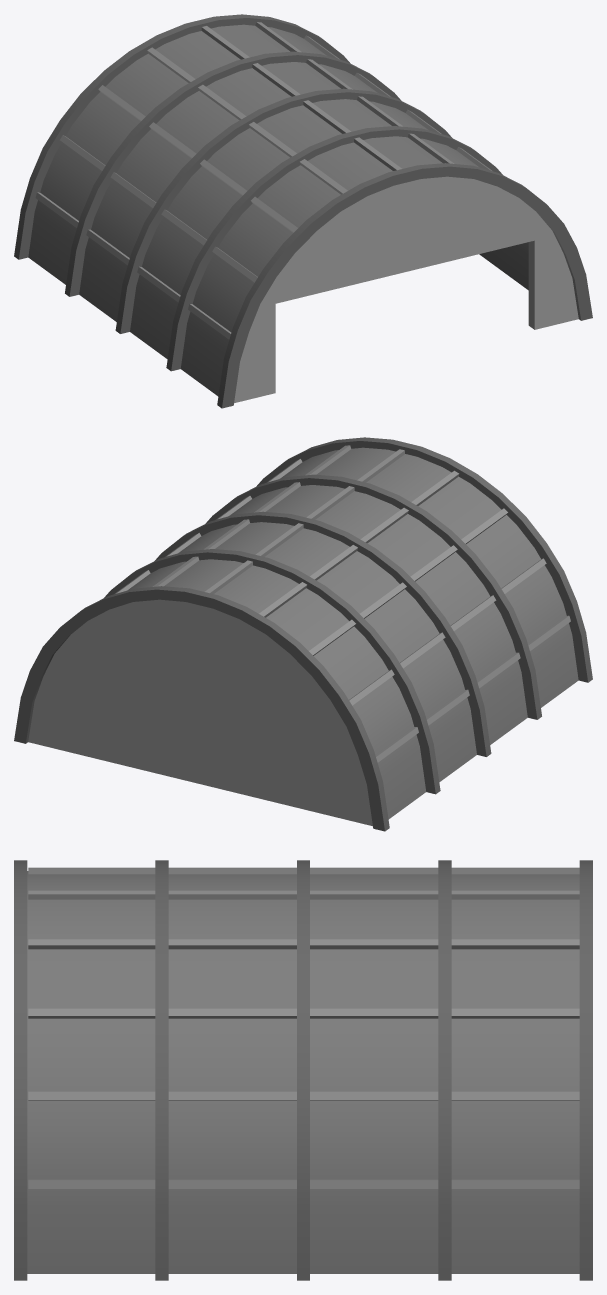
Rendered from Hanger 2.fbx.
3 renders of one model, top to bottom at view 1: azimuth 30°, elevation 25°; view 2: azimuth 150°, elevation 25°; view 3: azimuth 270°, elevation 25°, orthographic. The views are drawn at different scales.
Parts seen in each view (by area): view 1: Hanger2; view 2: Hanger2; view 3: Hanger2.
Part boxes in pixels (x1,y1,x2,y2): Hanger2: (14,14,592,408); Hanger2: (14,437,592,831); Hanger2: (14,860,592,1280).
Size of the model in its own units: 2666 by 1311 by 2588.
